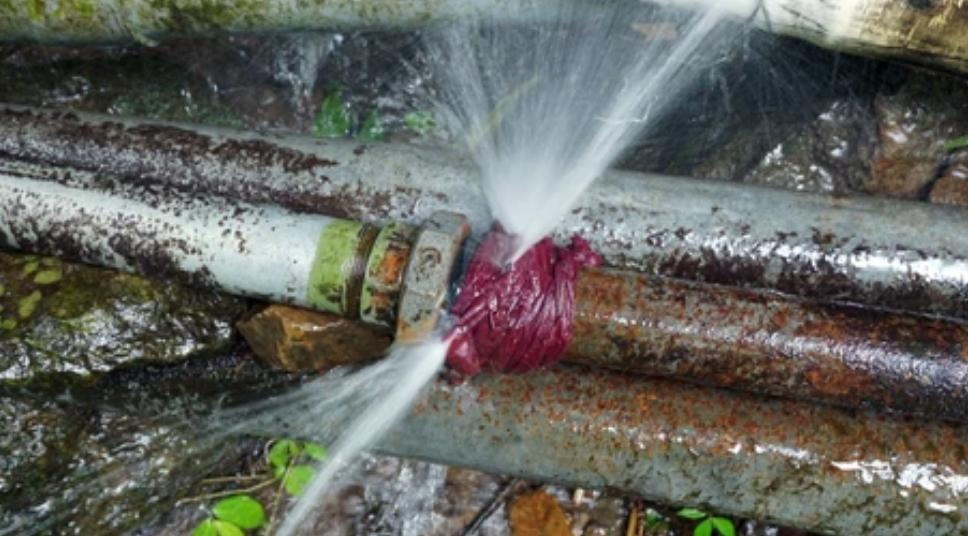pipe burst: (401, 0, 784, 262), (119, 319, 468, 536)
